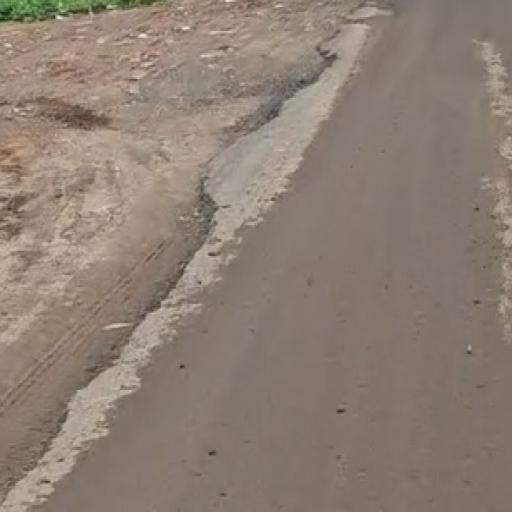edge_damage: (52, 170, 228, 413), (201, 25, 354, 152)
